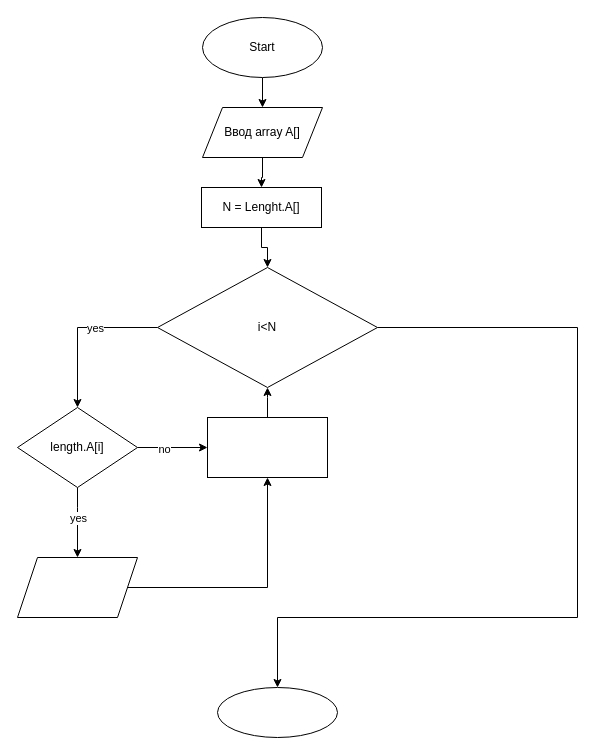
Image size: 603x755. Some labels were removed from this diagram. Here are the shapes that lost their labels. From the top down, the centre of each, then its label:
At (267,447): "i=i+1".
At (77,587): "A[i]".
At (277,712): "Finish".
